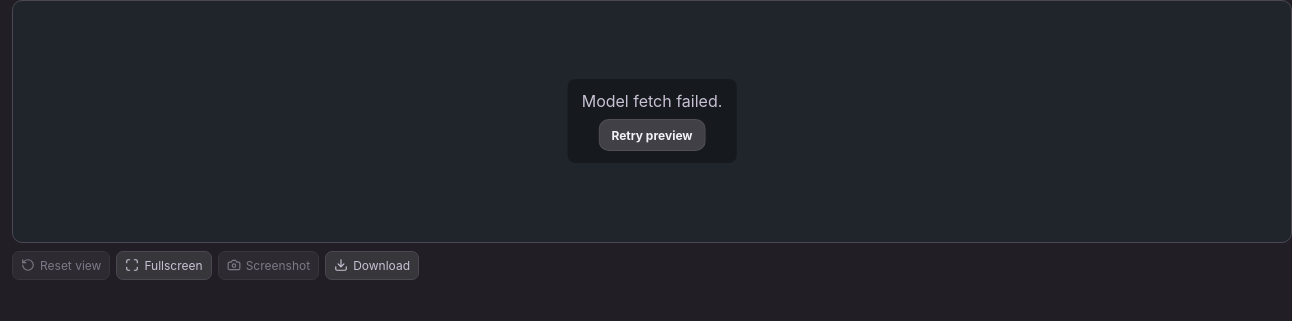
ThreeDViewer › can retry a transient scene load failure
Click the button "Retry preview".
click(652, 135)  # box [598,119,706,151]
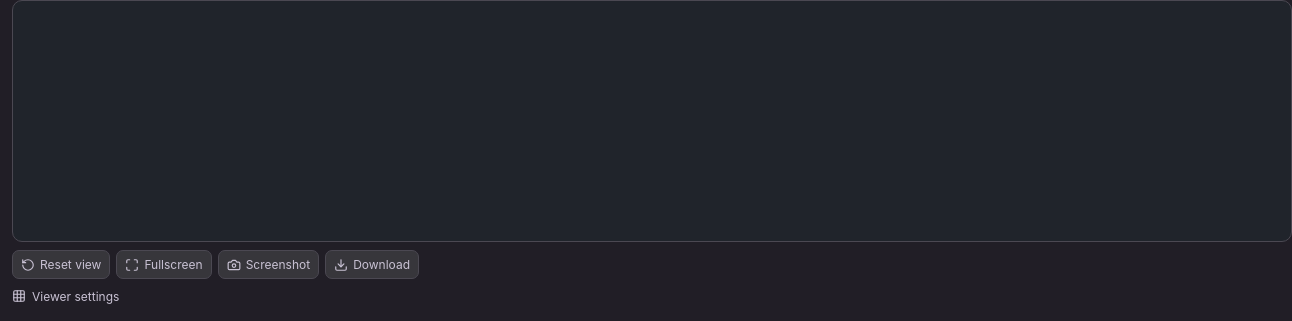
Result: the button "Retry preview" is gone
Result: the button "Reset view" is enabled at [12,250,110,279]
